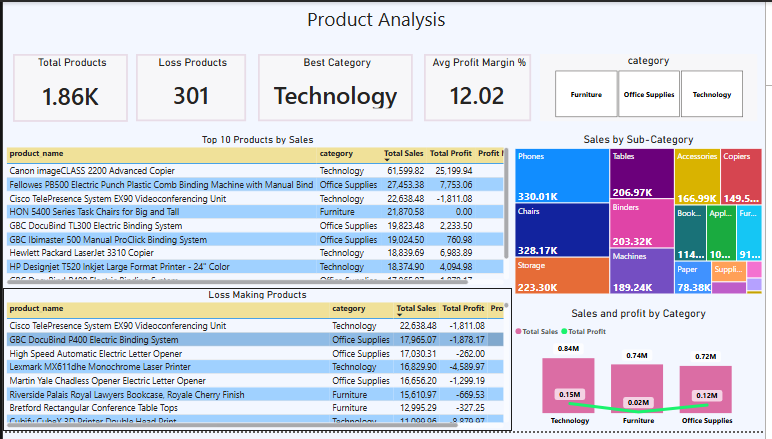

What the dashboard file says about the page in this screenshot:
{"tool":"powerbi","page":{"name":" Product Analysis","canvas":[1280,720],"ordinal":2},"visuals":[{"type":"textbox","box":[371.2,0,502.3,62.2],"z":0},{"type":"cardVisual","title":"Total Products","fields":{"Data":["fact_sales.Total Products"]},"box":[17,87.1,193.1,113.6],"z":1000},{"type":"cardVisual","title":"Loss Products","fields":{"Data":["fact_sales.Loss Products"]},"box":[223.4,87.3,184.8,112.5],"z":2000},{"type":"cardVisual","title":"Avg Profit Margin %","fields":{"Data":["fact_sales.Avg Profit Margin %"]},"box":[707.2,87.3,179.7,112.5],"z":3000},{"type":"cardVisual","title":"Best Category","fields":{"Data":["fact_sales.Best Category"]},"box":[428.3,87.3,260.4,112.5],"z":4000},{"type":"lineStackedColumnComboChart","title":"Sales and profit by Category","fields":{"Category":["dim_product.category"],"Y":["fact_sales.Total Sales"],"Y2":["fact_sales.Total Profit"]},"box":[855,512.3,425,208.3],"z":5000},{"type":"treemap","title":"Sales by Sub-Category","fields":{"Group":["dim_product.sub_category"],"Values":["fact_sales.Total Sales"]},"box":[855,220.1,425,275.5],"z":6000},{"type":"tableEx","title":"Top 10 Products by Sales","fields":{"Values":["dim_product.product_name","dim_product.category","fact_sales.Total Sales","fact_sales.Total Profit","fact_sales.Profit Margin %"]},"box":[0,220.1,855,260.4],"z":7000},{"type":"tableEx","title":"Loss Making Products","fields":{"Values":["dim_product.product_name","dim_product.category","fact_sales.Total Sales","fact_sales.Total Profit","fact_sales.Profit Margin %"]},"box":[0,480.4,855,240.2],"z":8000},{"type":"slicer","title":"category","fields":{"Values":["dim_product.category"]},"box":[902,87.3,364.5,112.5],"z":9000}]}

Visuals, with their boxes in screenshot pixels (x1, y1, x2, y2), scaled from the page's 1280x720 canvas onto the 772x439 screenshot:
textbox: box(224, 0, 527, 38)
"Total Products" cardVisual: box(10, 53, 127, 122)
"Loss Products" cardVisual: box(135, 53, 246, 122)
"Avg Profit Margin %" cardVisual: box(427, 53, 535, 122)
"Best Category" cardVisual: box(258, 53, 415, 122)
"Sales and profit by Category" lineStackedColumnComboChart: box(516, 312, 771, 438)
"Sales by Sub-Category" treemap: box(516, 134, 771, 302)
"Top 10 Products by Sales" tableEx: box(0, 134, 516, 293)
"Loss Making Products" tableEx: box(0, 293, 516, 438)
"category" slicer: box(544, 53, 764, 122)
